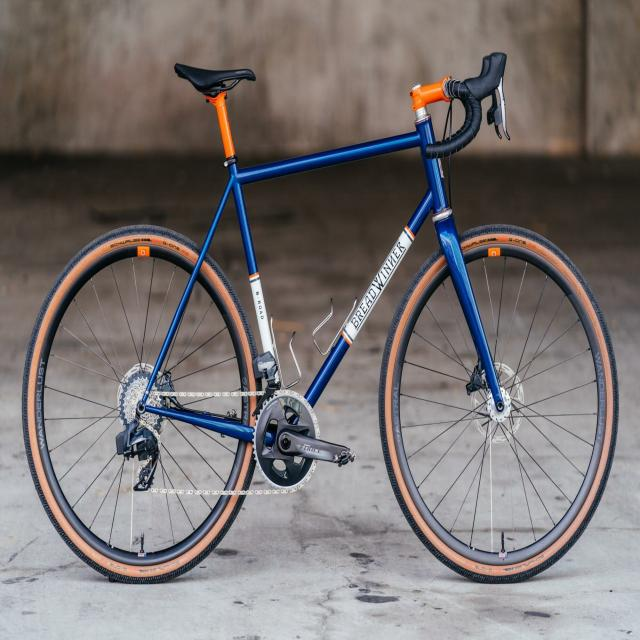bicycle: (19, 40, 623, 603)
